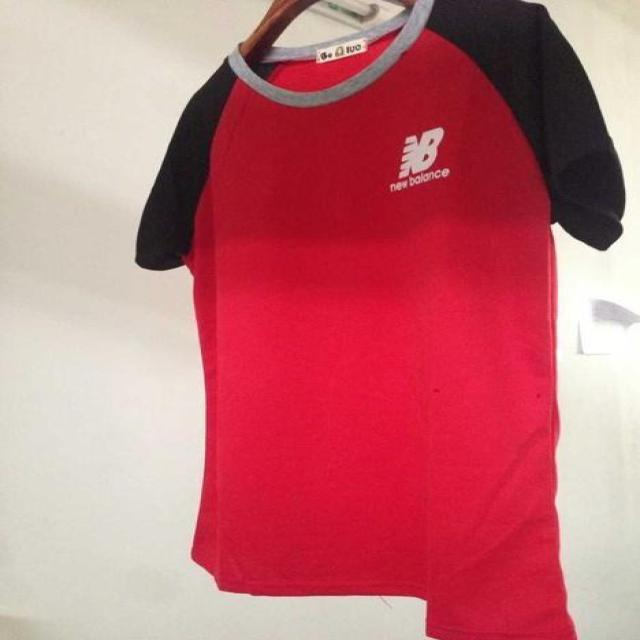short-sleeve-top: (122, 21, 631, 638)
